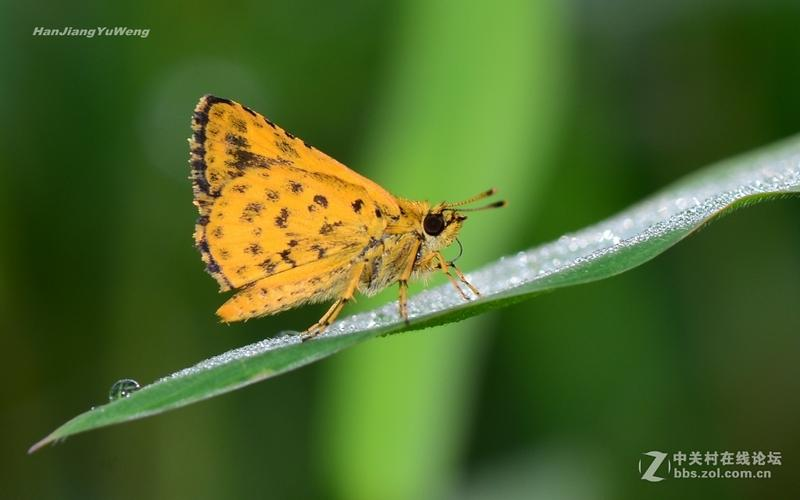Hesperiidae: (184, 88, 513, 353)
